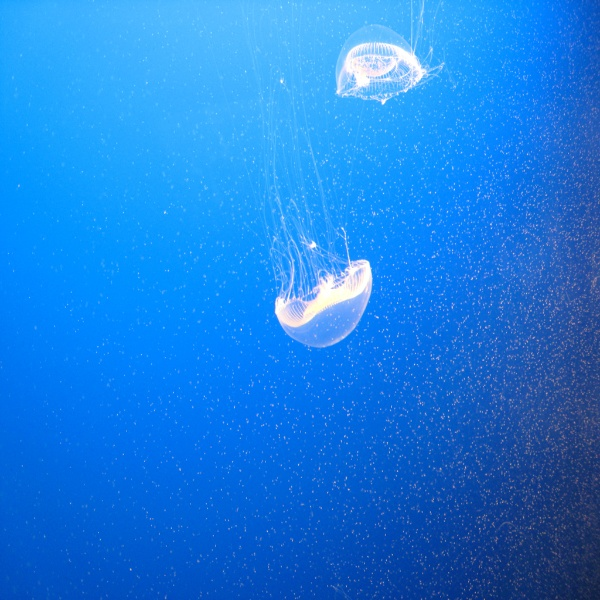Jellyfish: (274, 230, 375, 353), (333, 0, 445, 107)
